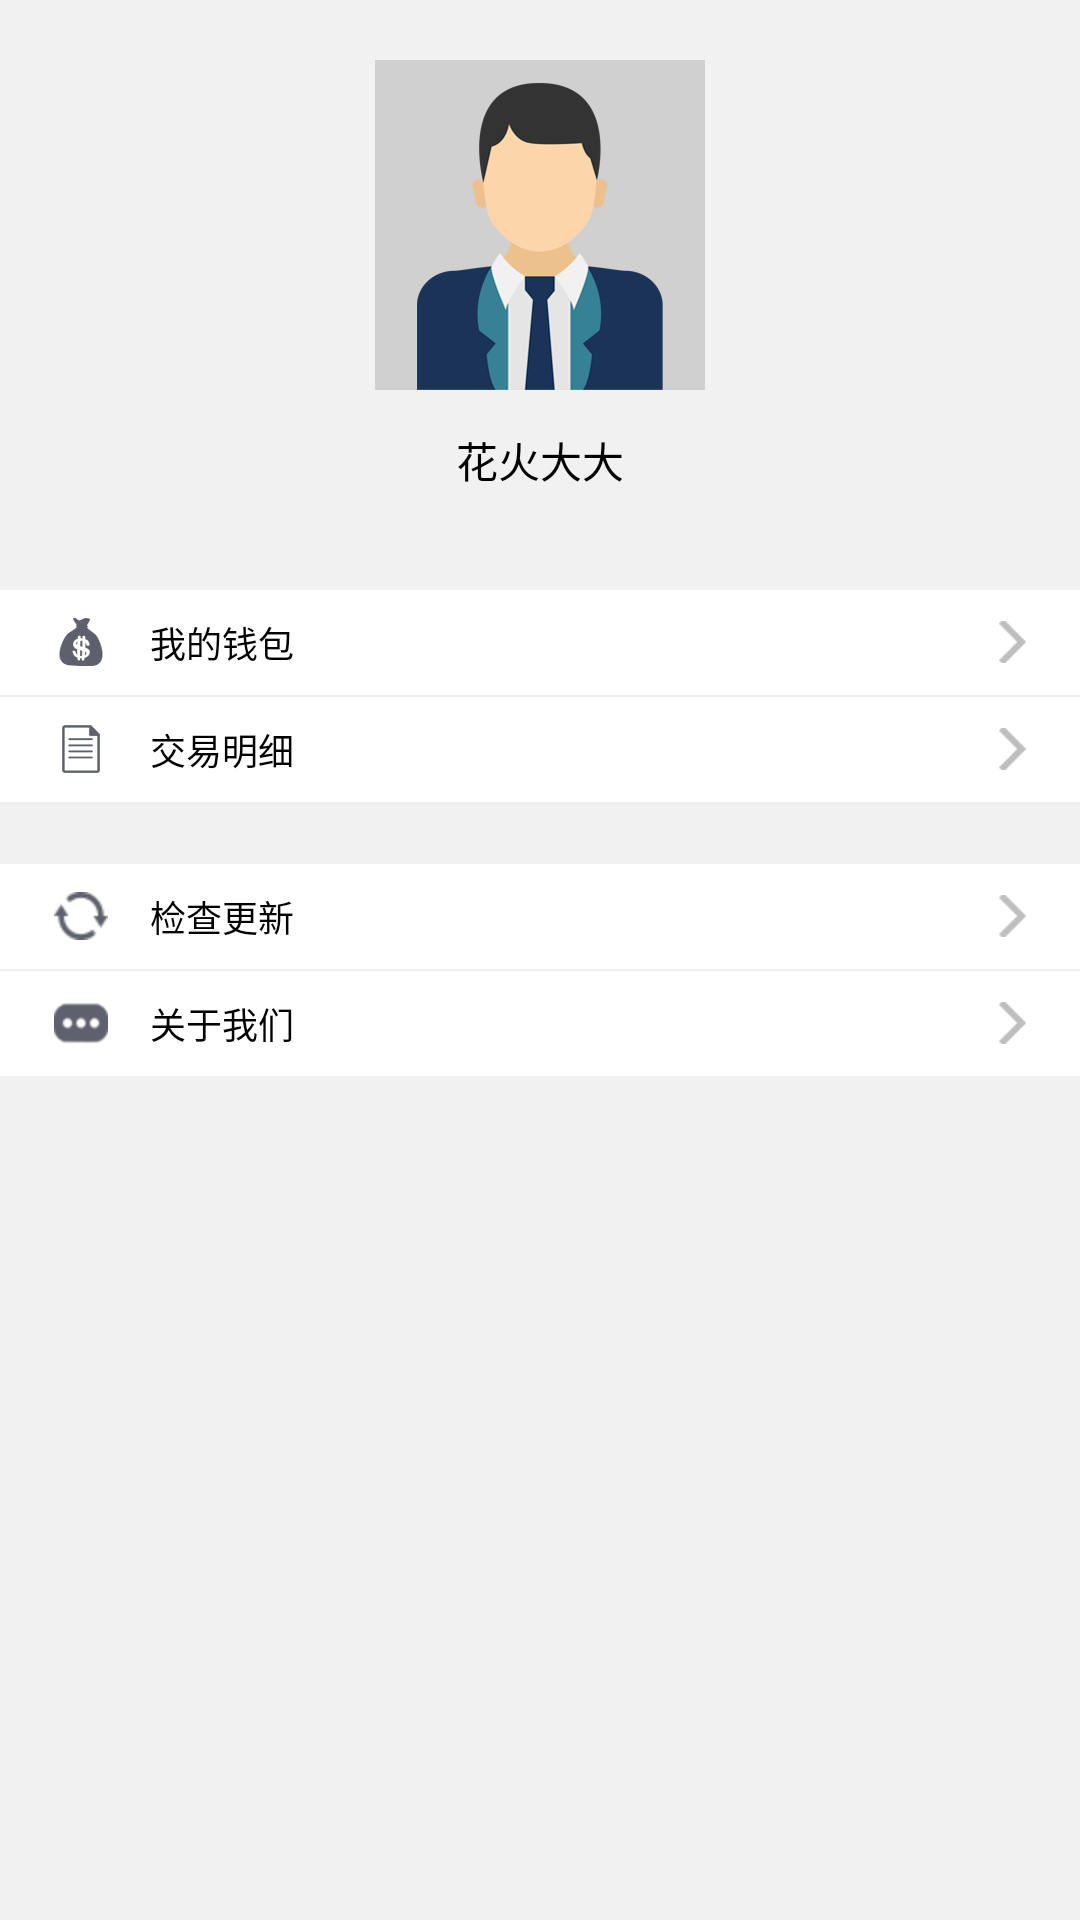

Screen size 1080px×1920px. Icon name, then its box in pixels as (x1, y1, x2, y2):
pic headshot man: (375, 60, 705, 390)
